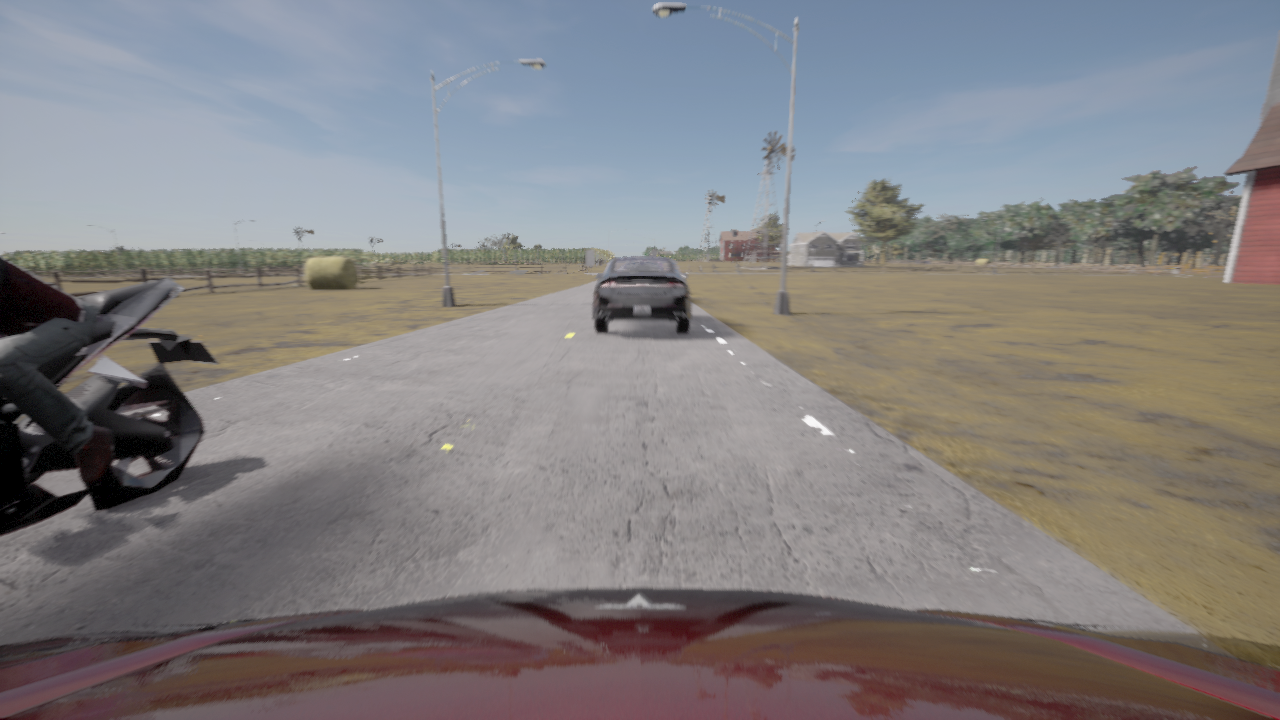cyclist: (0, 588, 1279, 719), (0, 279, 218, 536), (594, 256, 690, 332)
